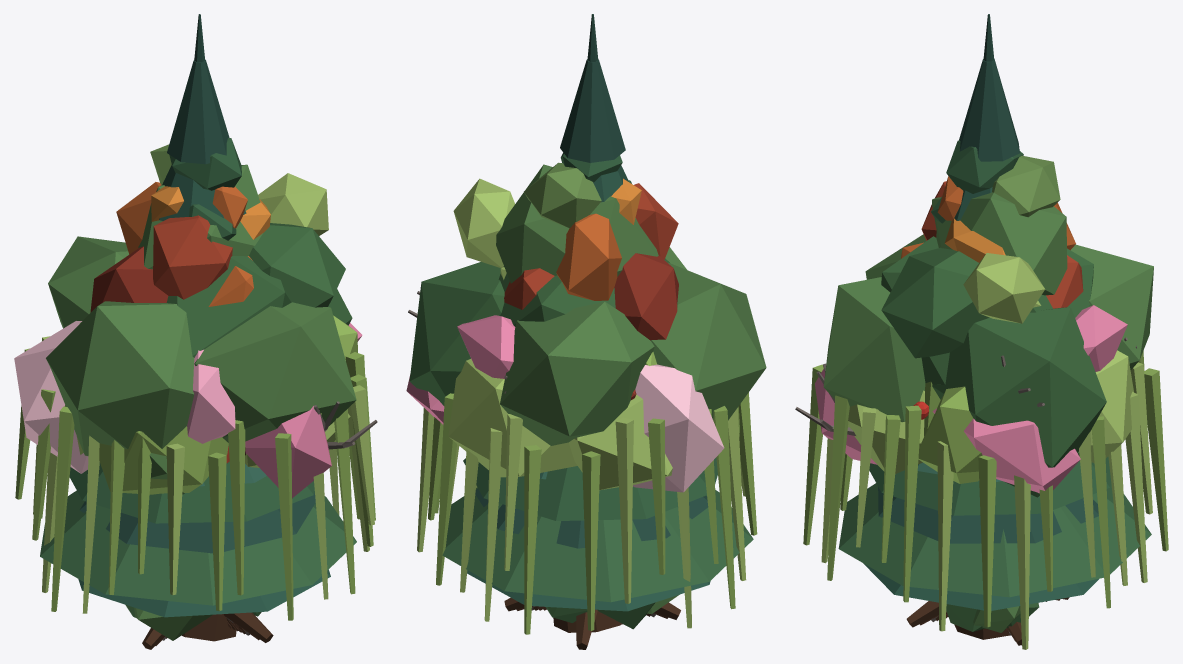
Rendered from flora.glb.
The picture shows the model from 3 angles, left to right: view 1: azimuth 30°, elevation 25°; view 2: azimuth 150°, elevation 25°; view 3: azimuth 270°, elevation 25°; orthographic projection.
Parts seen in each view (by area): view 1: tree_oak, tree_willow, tree_pine, tree_spruce, tree_maple, tree_cherry, tree_birch, tree_cypress, bush_round, tree_dead; view 2: tree_oak, tree_willow, tree_pine, tree_maple, tree_cherry, tree_spruce, tree_birch, tree_cypress, bush_berry, bush_round; view 3: tree_oak, tree_willow, tree_pine, tree_spruce, tree_cherry, tree_birch, tree_maple, tree_cypress, bush_round, bush_berry, tree_dead.
Part boxes in pixels (bbox=[...]): tree_oak: bbox=[46, 164, 356, 645]; tree_willow: bbox=[15, 315, 375, 649]; tree_pine: bbox=[40, 462, 356, 632]; tree_spruce: bbox=[78, 14, 330, 629]; tree_maple: bbox=[90, 182, 270, 638]; tree_cherry: bbox=[14, 321, 362, 632]; tree_birch: bbox=[150, 144, 328, 235]; tree_cypress: bbox=[169, 138, 241, 628]; bush_round: bbox=[134, 607, 212, 640]; tree_dead: bbox=[162, 401, 377, 640]; tree_oak: bbox=[409, 164, 766, 628]; tree_willow: bbox=[417, 352, 757, 649]; tree_pine: bbox=[442, 457, 753, 614]; tree_maple: bbox=[504, 178, 678, 616]; tree_cherry: bbox=[406, 315, 724, 492]; tree_spruce: bbox=[467, 14, 710, 611]; tree_birch: bbox=[453, 162, 601, 279]; tree_cypress: bbox=[560, 152, 631, 183]; bush_berry: bbox=[597, 602, 655, 629]; bush_round: bbox=[545, 594, 679, 622]; tree_oak: bbox=[823, 192, 1153, 641]; tree_willow: bbox=[803, 350, 1168, 649]; tree_pine: bbox=[838, 456, 1151, 631]; tree_spruce: bbox=[863, 14, 1098, 616]; tree_cherry: bbox=[815, 305, 1127, 628]; tree_birch: bbox=[963, 155, 1060, 323]; tree_maple: bbox=[901, 176, 1083, 633]; tree_cypress: bbox=[931, 140, 1023, 223]; bush_round: bbox=[973, 606, 1020, 632]; bush_berry: bbox=[946, 604, 984, 631]; tree_dead: bbox=[795, 337, 1137, 635].
Bounding box in the file's own units: 3.49 × 6.52 × 3.62.
